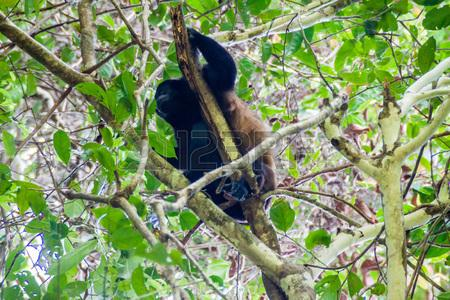monkey: (154, 5, 272, 184), (211, 177, 247, 224), (252, 151, 276, 195)
